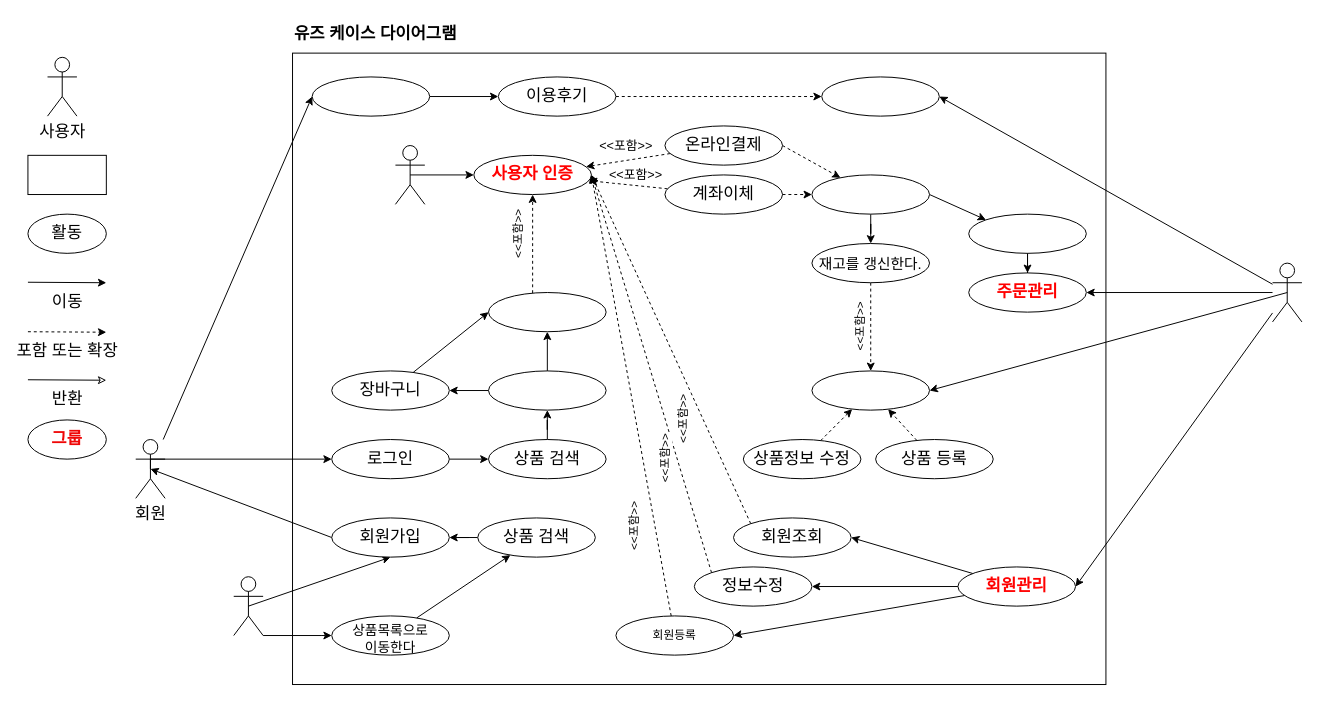
Image size: 1328x702. Some labels were removed from this diagram. The centre of each missing label's shape, as x and y in pixels:
결제 관리: (x=870, y=194)
관리자: (x=1287, y=292)
배송정보 발생: (x=1027, y=233)
비회원: (x=248, y=606)
상품 관리: (x=870, y=390)
상품 구매: (x=547, y=312)
상품 구매결정: (x=370, y=96)
상품선택: (x=547, y=390)
시스템: (x=66, y=174)
이용후기관리: (x=880, y=96)
인증회사: (x=409, y=174)
